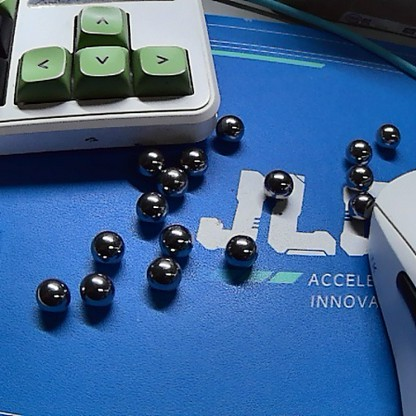ironball: (78, 221, 130, 263), (27, 274, 73, 313), (211, 110, 255, 146), (219, 230, 261, 267), (337, 128, 379, 164), (153, 221, 193, 258), (134, 141, 168, 183), (142, 249, 182, 283), (261, 163, 296, 200), (78, 270, 115, 304), (345, 161, 378, 196), (133, 186, 166, 217), (344, 185, 374, 219), (177, 149, 210, 175), (377, 120, 400, 149), (160, 164, 182, 194)
